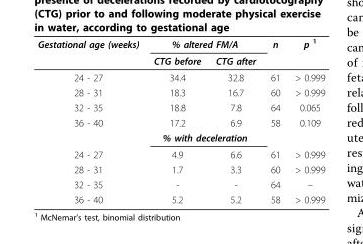table: (37, 36, 324, 204)
table column: (37, 36, 145, 204), (145, 36, 207, 204), (207, 36, 262, 204), (286, 36, 324, 204), (262, 36, 286, 204)
table column header: (37, 36, 324, 68)
table row: (37, 36, 324, 52), (37, 52, 324, 68), (37, 68, 324, 84), (37, 129, 324, 145), (37, 145, 324, 161), (37, 84, 324, 99), (37, 99, 324, 114), (37, 114, 324, 129), (37, 161, 324, 176), (37, 176, 324, 191), (37, 191, 324, 204)
table spanning cell: (37, 36, 145, 68), (37, 114, 145, 145), (145, 36, 262, 52), (145, 129, 262, 145), (286, 36, 324, 68), (262, 36, 286, 68)
